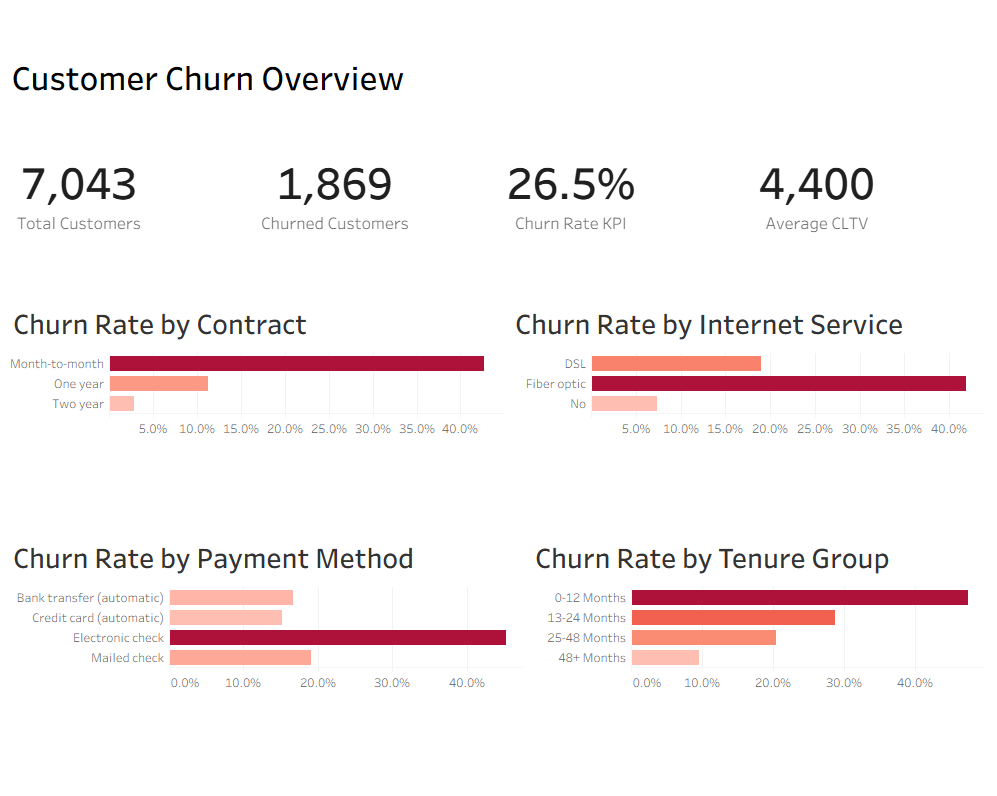

Layout of this report page (visuals, bound fields, positions):
{"tool":"tableau","page":{"name":"Customer Churn Overview","canvas":[1000,800],"ordinal":0},"visuals":[{"type":"text","box":[8,8,984,143]},{"type":"worksheet","title":"Total Customers","mark":"Automatic","box":[8,151,246,148]},{"type":"worksheet","title":"Churned Customers","mark":"Automatic","box":[254,151,246,148]},{"type":"worksheet","title":"Churn Rate KPI","mark":"Automatic","box":[500,151,246,148]},{"type":"worksheet","title":"Average CLTV","mark":"Automatic","box":[746,151,246,148]},{"type":"worksheet","title":"Churn Rate by Contract","mark":"Bar","rows":["Contract"],"cols":["Calculation_0262250169528320"],"box":[8,299,502,234]},{"type":"worksheet","title":"Churn Rate by Internet Service","mark":"Automatic","rows":["Internet Service"],"cols":["Calculation_0262250169528320"],"box":[510,299,482,234]},{"type":"worksheet","title":"Churn Rate by Payment Method","mark":"Automatic","rows":["Tech Support"],"cols":["Calculation_0262250169528320"],"box":[8,533,502,227]},{"type":"worksheet","title":"Churn Rate by Tenure Group","mark":"Automatic","rows":["tenure_group"],"cols":["Calculation_0262250169528320"],"box":[510,533,482,227]}]}

Visuals, with their boxes in screenshot pixels (x1, y1, x2, y2), scaled from the page's 1000x800 canvas onto the 997x796 screenshot:
text: (8, 8, 989, 150)
"Total Customers" worksheet: (8, 150, 253, 298)
"Churned Customers" worksheet: (253, 150, 498, 298)
"Churn Rate KPI" worksheet: (498, 150, 744, 298)
"Average CLTV" worksheet: (744, 150, 989, 298)
"Churn Rate by Contract" worksheet (Bar marks): (8, 298, 508, 530)
"Churn Rate by Internet Service" worksheet: (508, 298, 989, 530)
"Churn Rate by Payment Method" worksheet: (8, 530, 508, 756)
"Churn Rate by Tenure Group" worksheet: (508, 530, 989, 756)
